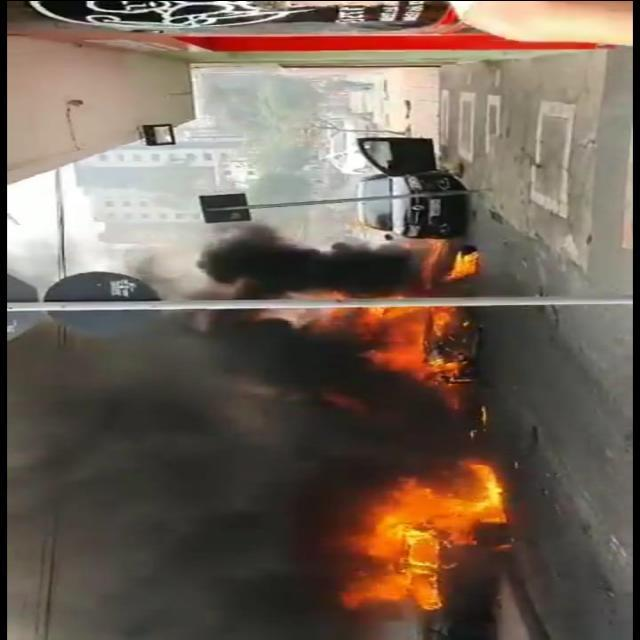Fire: (343, 453, 507, 617), (290, 298, 460, 378), (441, 252, 483, 278)
